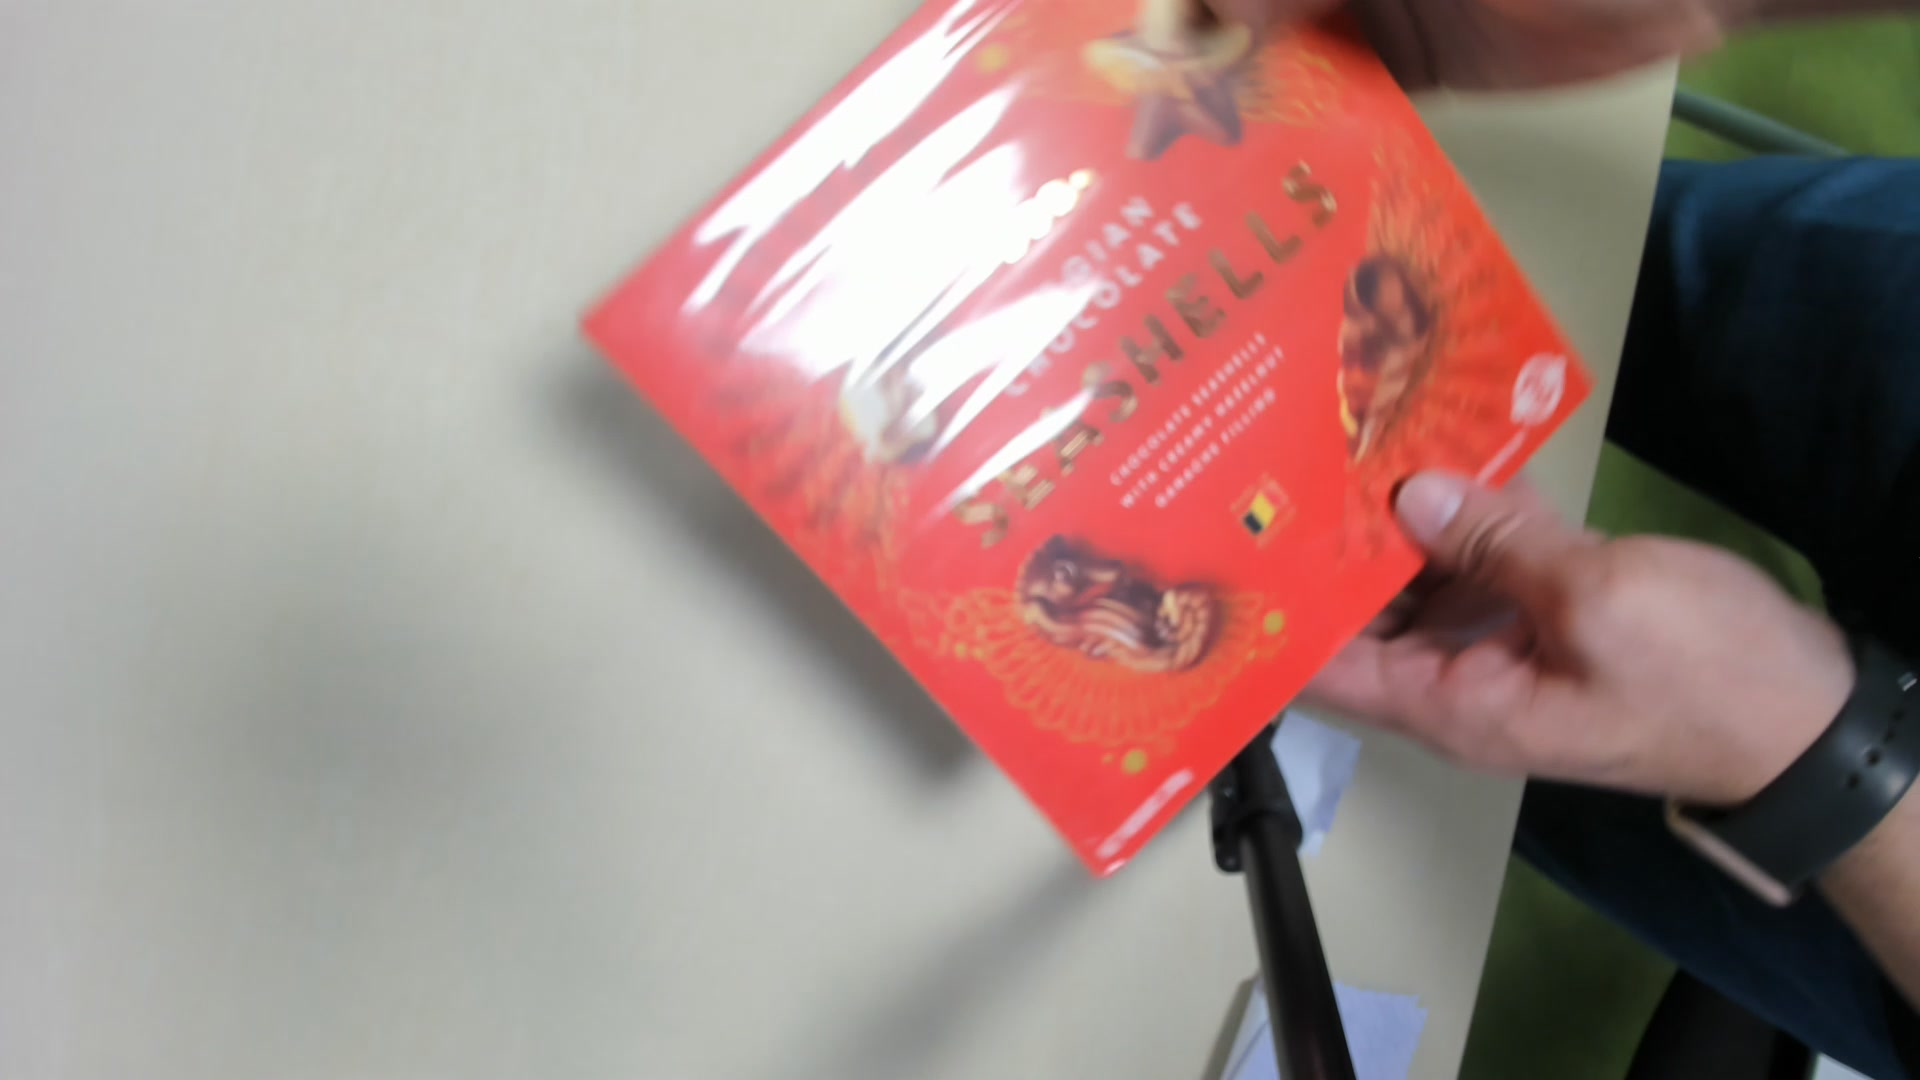SweetsChocolatesOthers_200-299g_Halal_Nonhealthy: (582, 1, 1581, 873)
